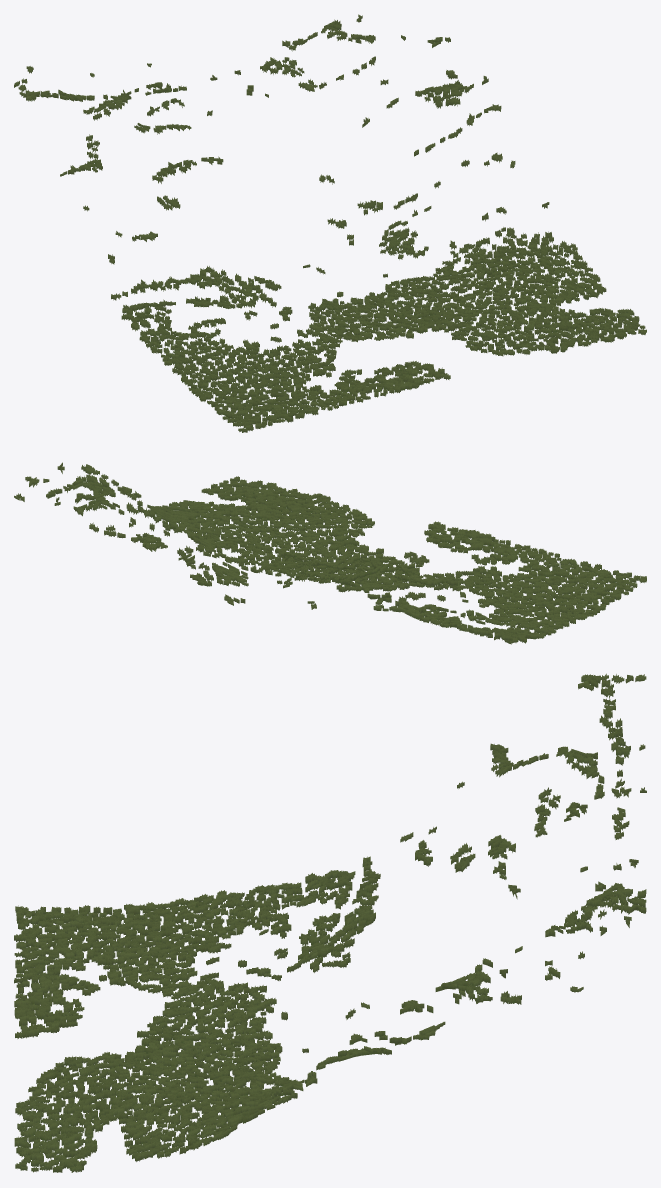
The model's file is TRB8-GRASS-CHUNK-2-2.glb.
The picture shows the model from 3 angles, top to bottom: view 1: azimuth 30°, elevation 25°; view 2: azimuth 150°, elevation 25°; view 3: azimuth 270°, elevation 25°; orthographic projection. The views are drawn at different scales.
Parts seen in each view (by area): view 1: TRB8-GRASS-CHUNK-2-2; view 2: TRB8-GRASS-CHUNK-2-2; view 3: TRB8-GRASS-CHUNK-2-2.
Boxes of the visible parts, box(x1,y1,x2,y2) form: TRB8-GRASS-CHUNK-2-2: box(14, 14, 646, 432); TRB8-GRASS-CHUNK-2-2: box(14, 462, 646, 644); TRB8-GRASS-CHUNK-2-2: box(14, 673, 646, 1172).
Size of the model in its own units: 40.48 by 17.65 by 40.49.
1 material, 1 textured.
